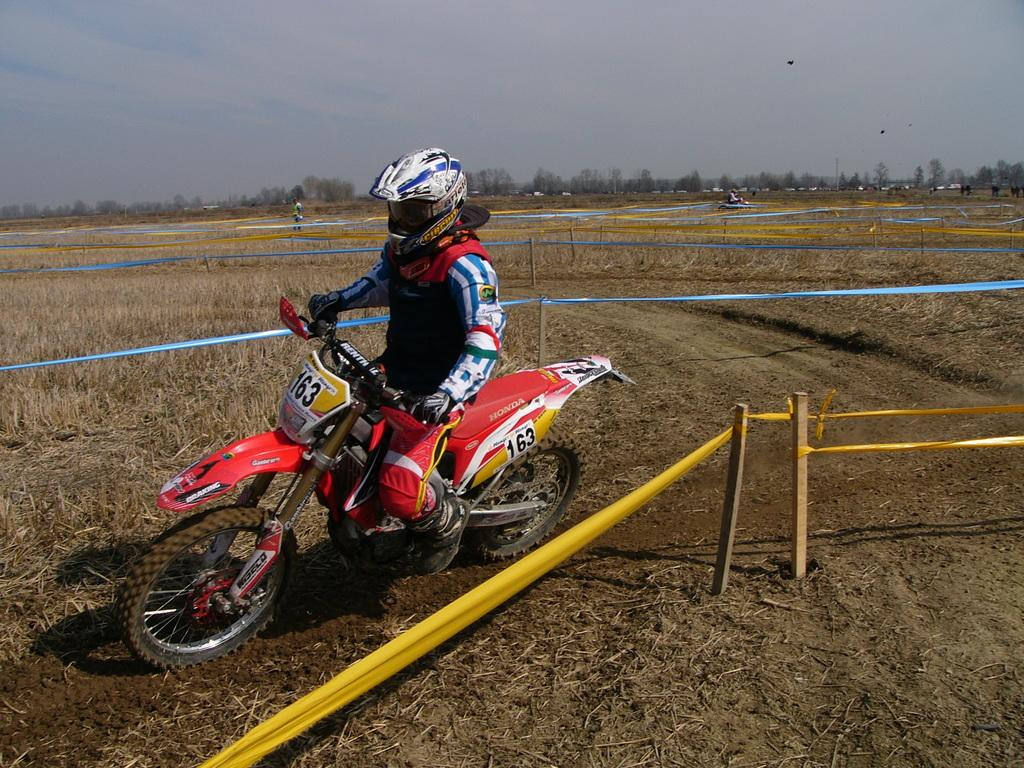helmet: (368, 147, 468, 257)
